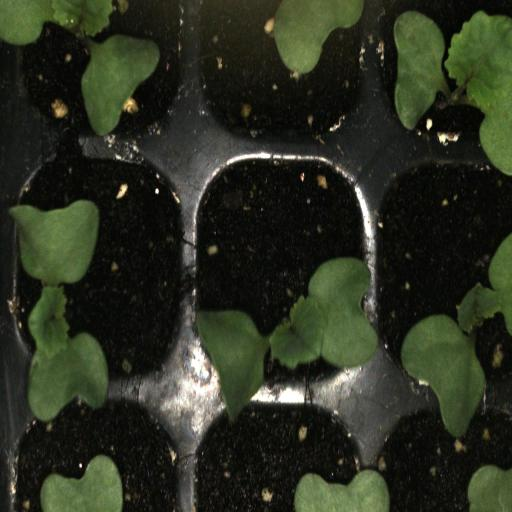seedling: (8, 141, 192, 391), (192, 143, 368, 393), (373, 147, 512, 395), (9, 0, 194, 152), (375, 0, 512, 148)
